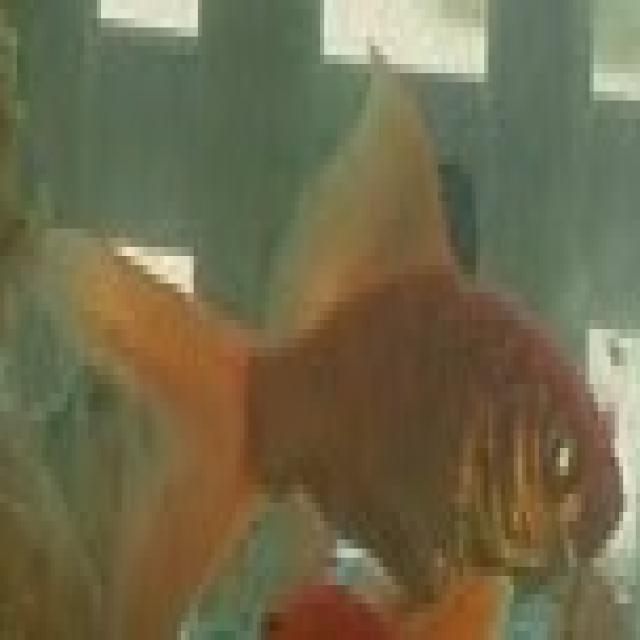Gold-Fish: (34, 76, 631, 598)
